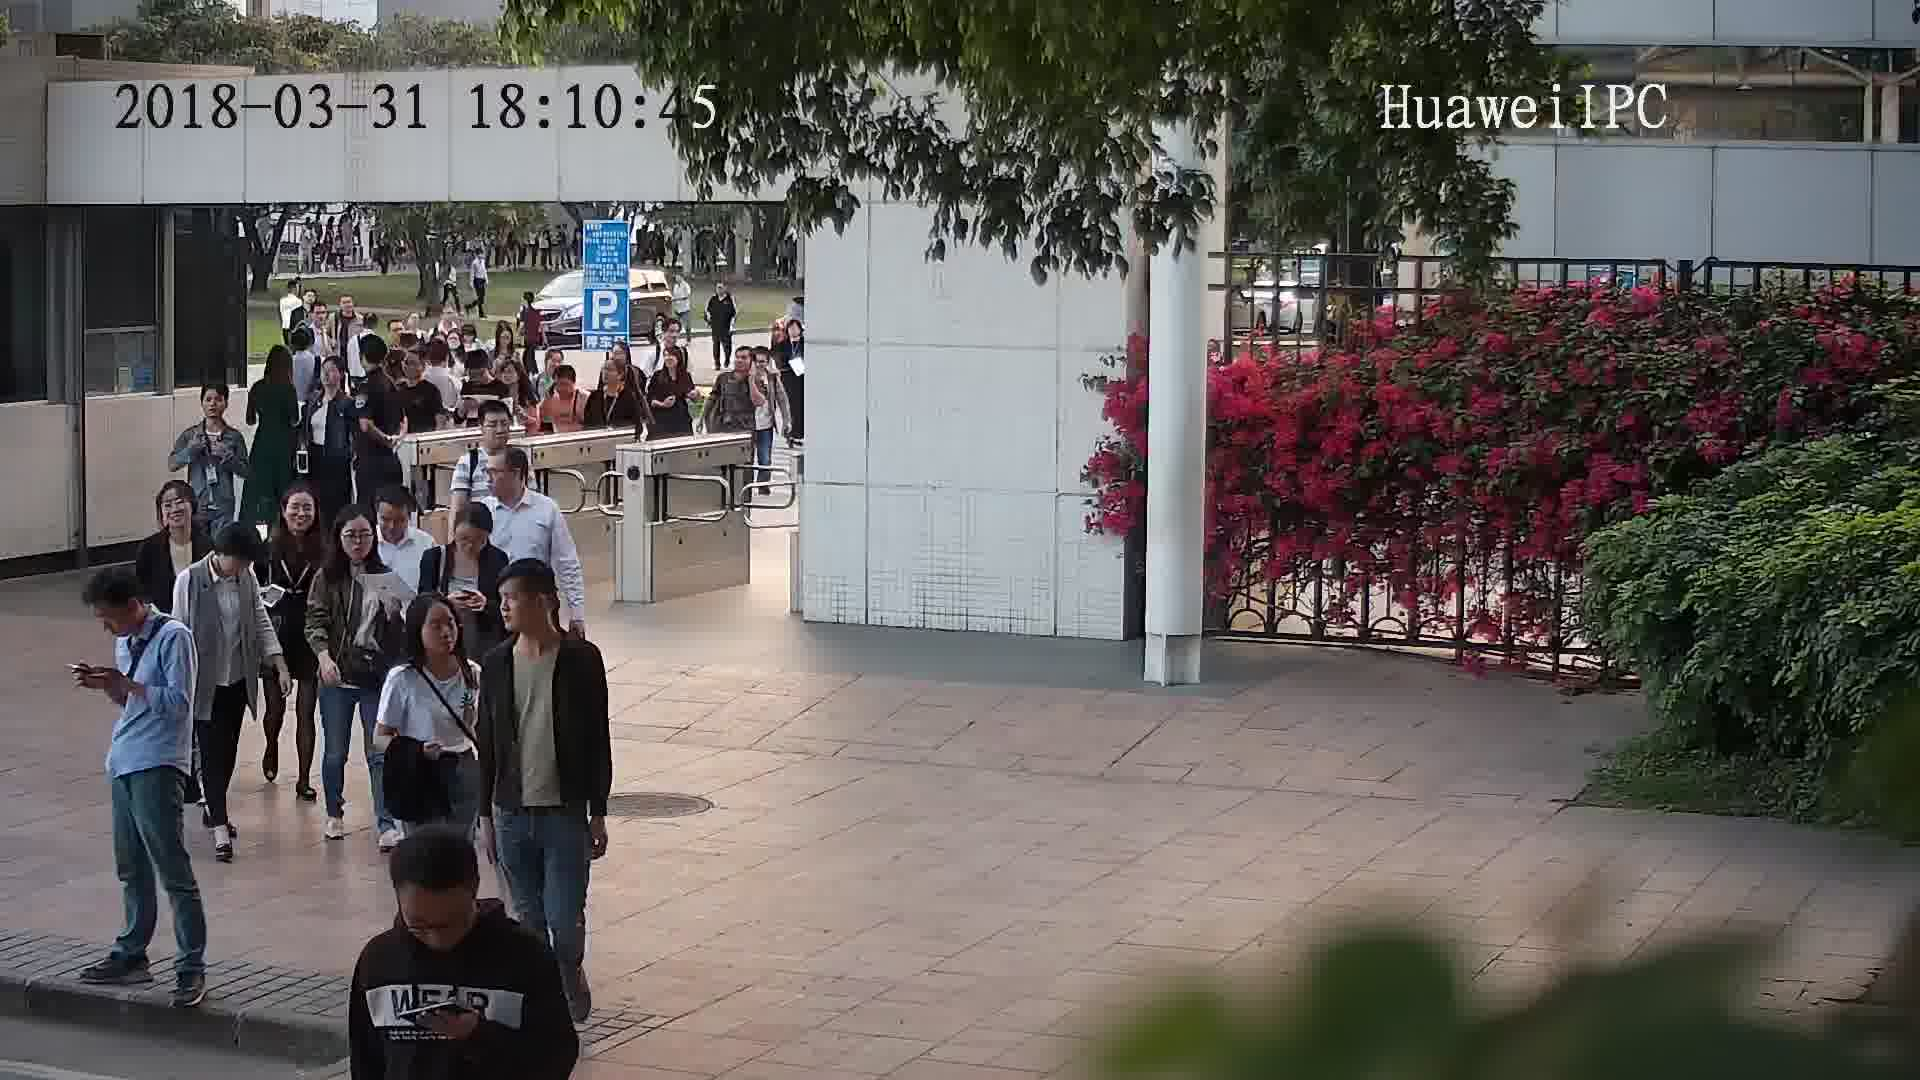face: (404, 881, 469, 946), (489, 576, 547, 634), (412, 604, 465, 657)
person: (352, 829, 554, 989), (482, 558, 596, 678), (385, 593, 481, 701), (88, 564, 189, 665), (313, 505, 406, 593), (178, 515, 265, 602), (137, 475, 215, 569), (426, 496, 511, 575), (485, 445, 562, 533), (454, 400, 527, 479), (262, 476, 334, 557), (181, 373, 250, 451), (368, 479, 435, 556), (252, 341, 304, 409), (313, 354, 360, 414), (358, 336, 401, 397), (392, 347, 434, 406), (592, 356, 638, 409), (542, 361, 589, 409), (717, 343, 765, 390), (749, 343, 788, 400), (461, 347, 507, 394), (420, 336, 464, 383), (289, 321, 327, 374), (643, 320, 691, 361), (651, 343, 694, 388), (487, 320, 524, 369), (533, 343, 565, 390), (306, 298, 338, 344), (328, 295, 365, 332), (774, 313, 802, 356), (456, 319, 486, 356), (709, 276, 737, 306), (517, 288, 542, 320), (668, 264, 694, 291)
